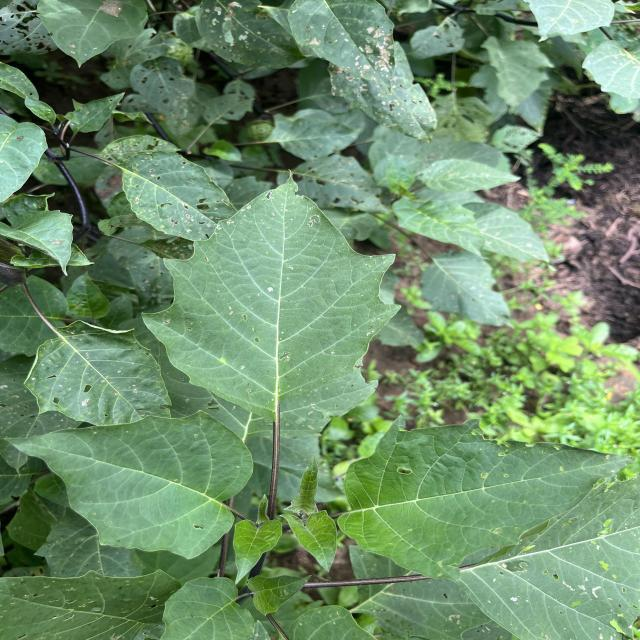Datura metal linn: (139, 166, 406, 427), (334, 413, 640, 589), (0, 407, 256, 561), (278, 508, 341, 574), (231, 517, 284, 586), (243, 572, 316, 618)
